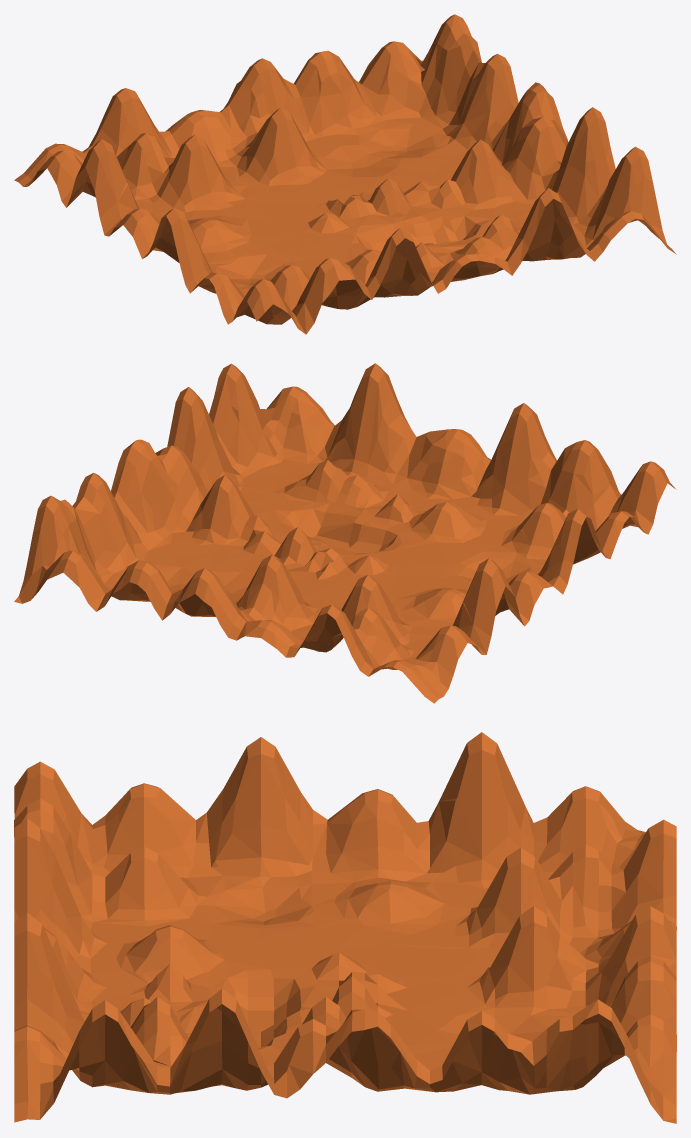
The model's file is MarTerrain3.fbx.
The picture shows the model from 3 angles, top to bottom: view 1: azimuth 30°, elevation 25°; view 2: azimuth 150°, elevation 25°; view 3: azimuth 270°, elevation 25°; orthographic projection. The views are drawn at different scales.
Parts seen in each view (by area): view 1: Plane; view 2: Plane; view 3: Plane.
Part boxes in pixels (box(x1,y1,x2,y2)): Plane: box(14, 14, 676, 334); Plane: box(14, 363, 676, 703); Plane: box(14, 732, 676, 1123).
Bounding box in the file's own units: 20025 × 5131 × 20019.
